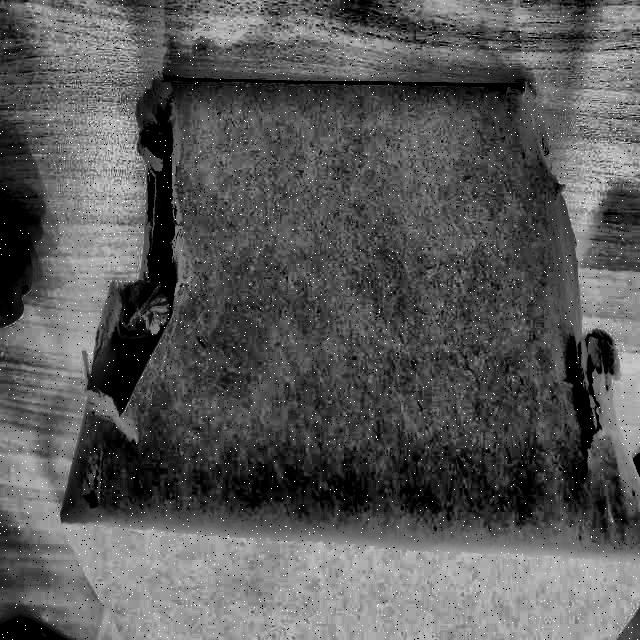box: (47, 65, 640, 640)
hole: (91, 137, 181, 419)
